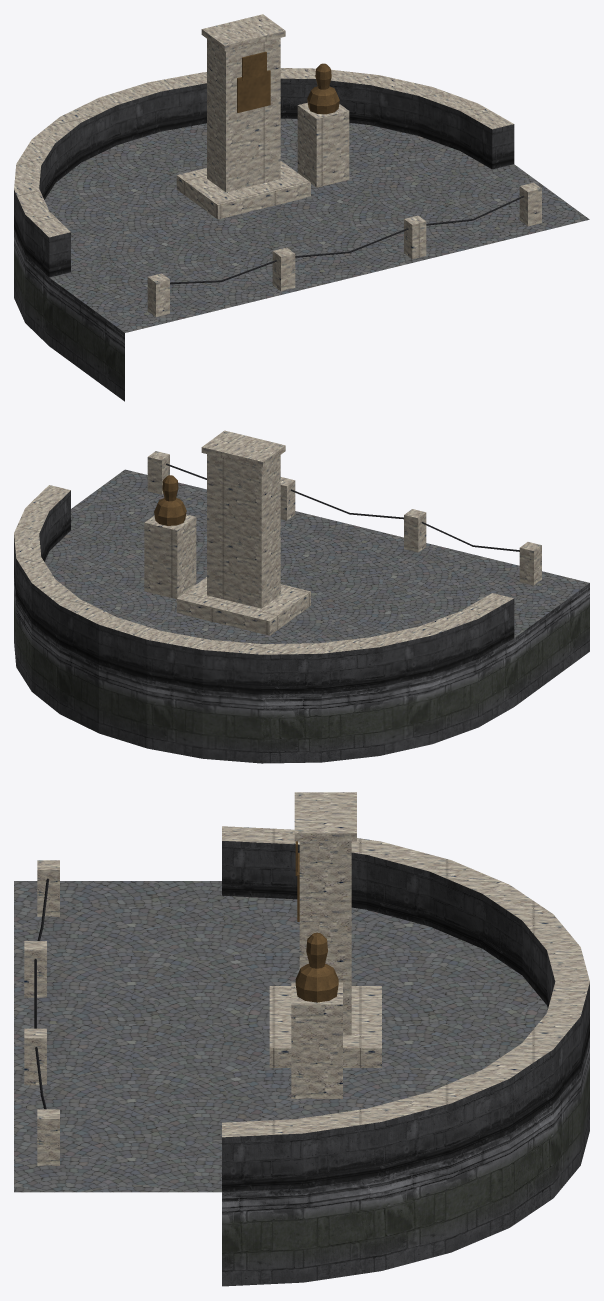
Rendered from SM_MoloItalia_Monumento_LOD1.fbx.
The picture shows the model from 3 angles, top to bottom: view 1: azimuth 30°, elevation 25°; view 2: azimuth 150°, elevation 25°; view 3: azimuth 270°, elevation 25°; orthographic projection. The views are drawn at different scales.
Parts seen in each view (by area): view 1: SM_MoloItalia_Monumento_LOD1; view 2: SM_MoloItalia_Monumento_LOD1; view 3: SM_MoloItalia_Monumento_LOD1.
Boxes of the visible parts, x1=… form: SM_MoloItalia_Monumento_LOD1: x1=14, y1=14, x2=589, y2=401; SM_MoloItalia_Monumento_LOD1: x1=14, y1=430, x2=589, y2=763; SM_MoloItalia_Monumento_LOD1: x1=14, y1=792, x2=589, y2=1286.
Size of the model in its own units: 850 by 665 by 405.
Materials: 4 (4 with a texture image).
